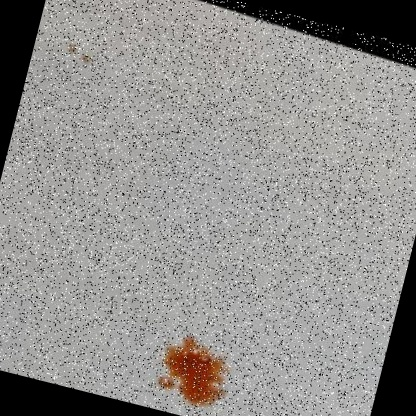kimchi: (145, 321, 241, 414)
